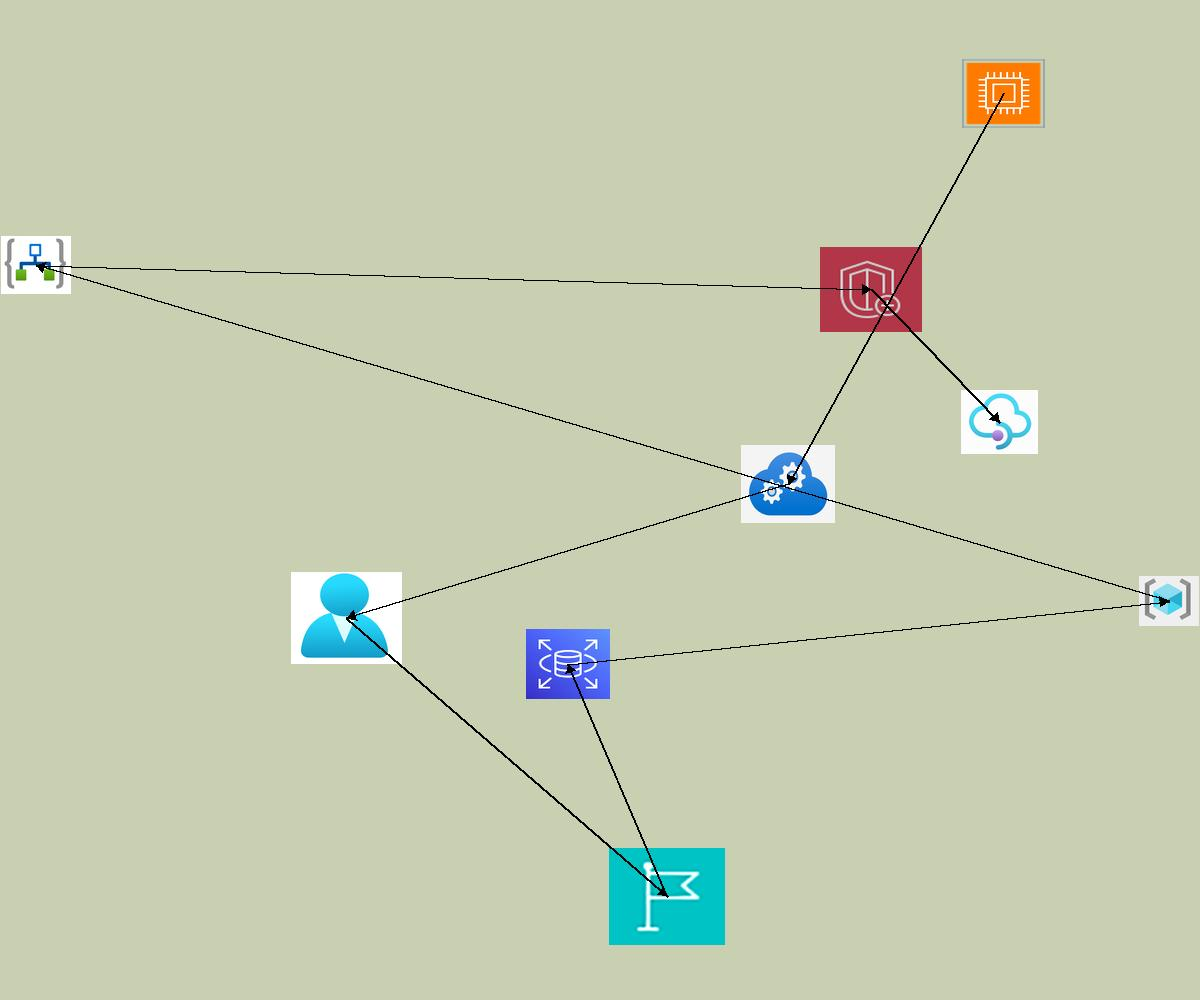AWS-Category_Compute: (962, 59, 1045, 128)
AWS-RDS: (526, 629, 610, 699)
AWS-Region: (609, 848, 725, 945)
AWS-Shield: (820, 247, 922, 332)
Azure_api_gateway: (961, 390, 1038, 454)
Azure_cloud_services: (741, 445, 835, 523)
Azure_integration-204-Logic-Apps: (1, 236, 71, 294)
Azure_resource_group: (1139, 576, 1199, 626)
Azure_users: (291, 572, 402, 664)
